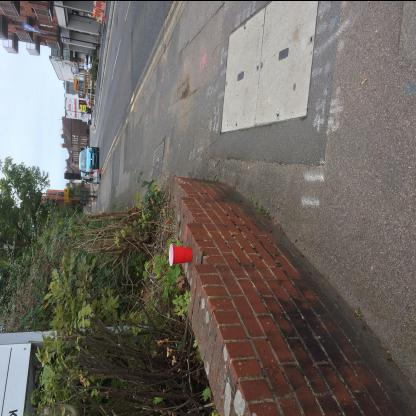plastik: (170, 244, 194, 267)
